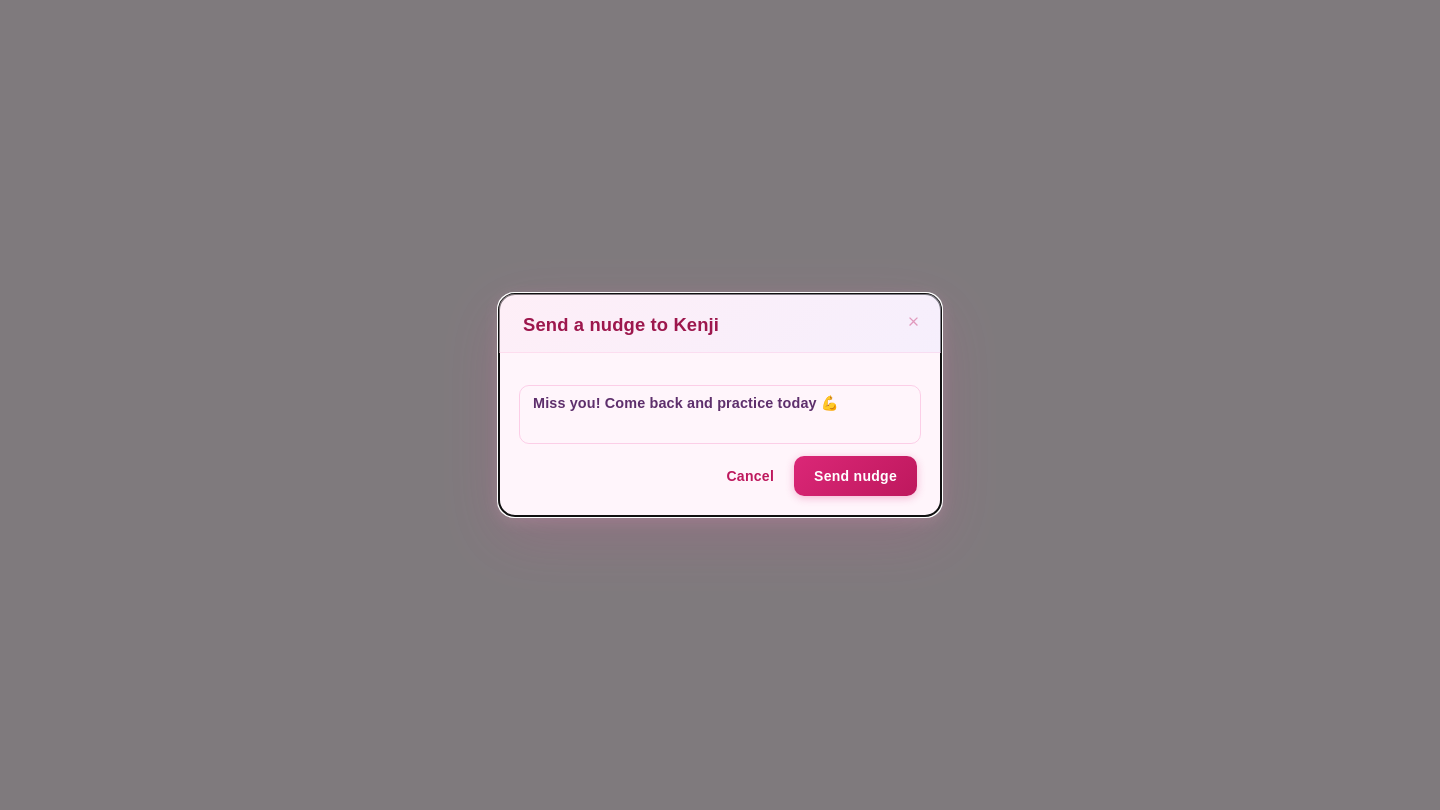
it: QuickNudgeDialog › stays open and shows the error when the send fails
Click the button "Send nudge" at (856, 476), box [794,456,917,496]
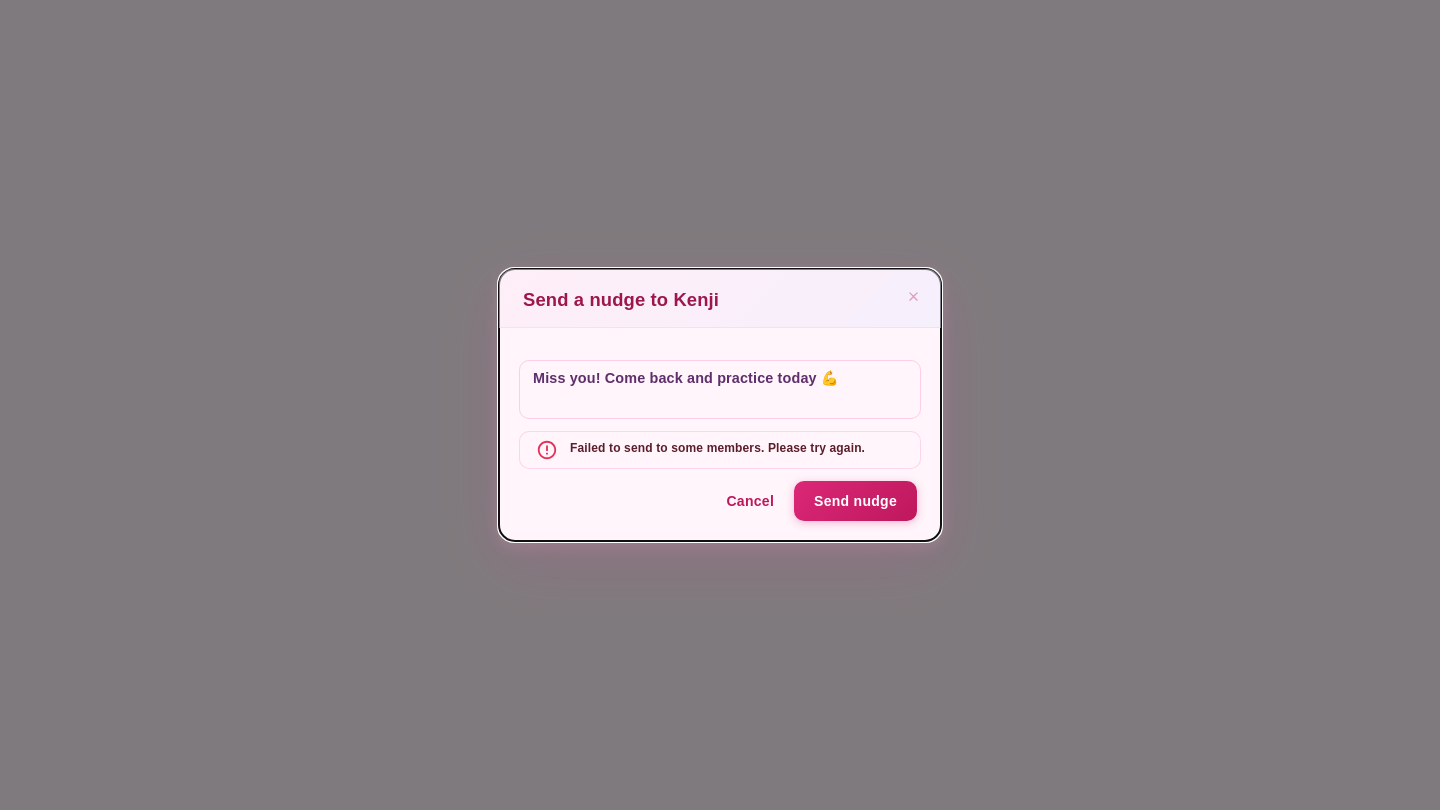
Expected: the dialog is shown, [498,268,942,542]
Expected: the text "Failed to send to some members. Please try again." is shown, [570,441,865,455]
